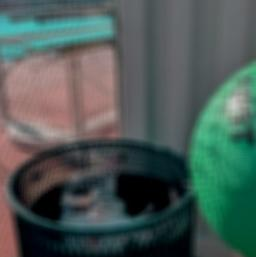algae: (188, 44, 256, 257)
